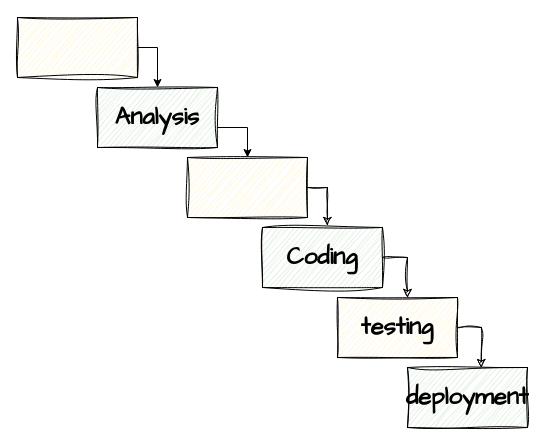
Some shapes in this 546 by 445 pixel diagram are drawn without their labels. The centre of each missing label's shape, as x and y in pixels:
Design: (247,187)
Requirement Gathering: (77,47)
